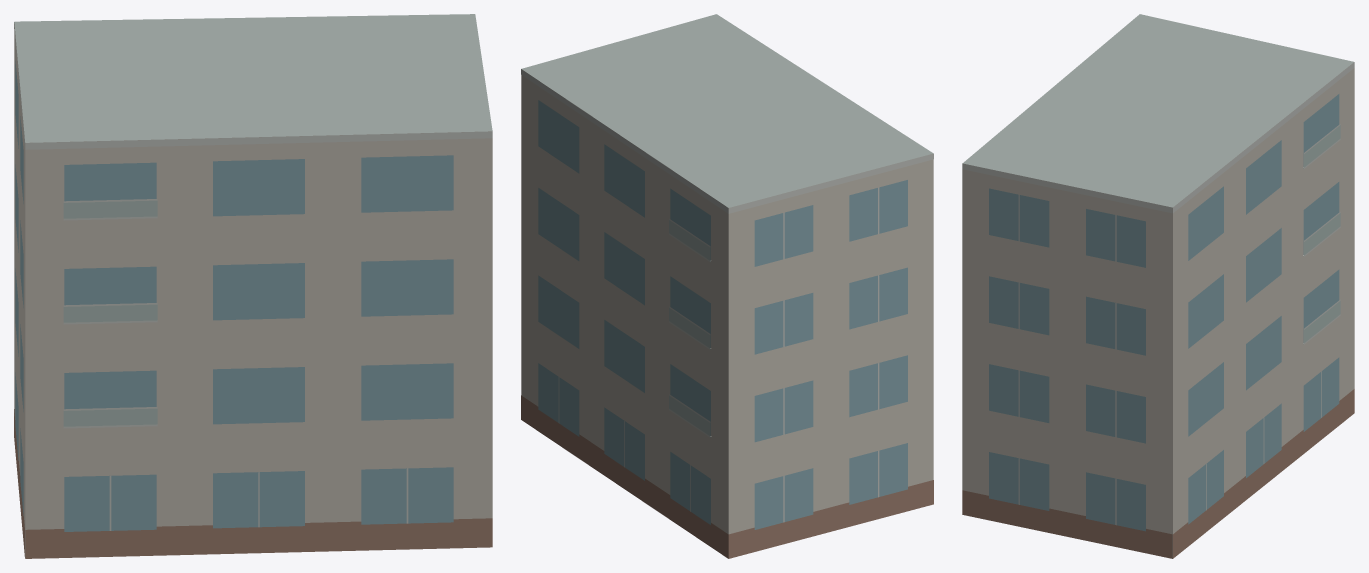
Rendered from survey-upis-33029650.glb.
3 views of the same model, side by side, from view 1: azimuth 30°, elevation 25°; view 2: azimuth 150°, elevation 25°; view 3: azimuth 270°, elevation 25° (orthographic). The views are drawn at different scales.
Parts seen in each view (by area): view 1: survey-upis-33029650.tmp; view 2: survey-upis-33029650.tmp; view 3: survey-upis-33029650.tmp.
Boxes of the visible parts, <box> form: survey-upis-33029650.tmp: <box>14,14,492,558</box>; survey-upis-33029650.tmp: <box>521,14,933,558</box>; survey-upis-33029650.tmp: <box>962,14,1354,558</box>.
Size of the model in its own units: 17.26 by 14.6 by 14.78.
